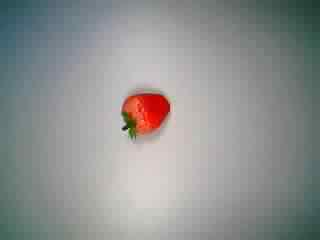strawberry: (111, 79, 177, 145)
